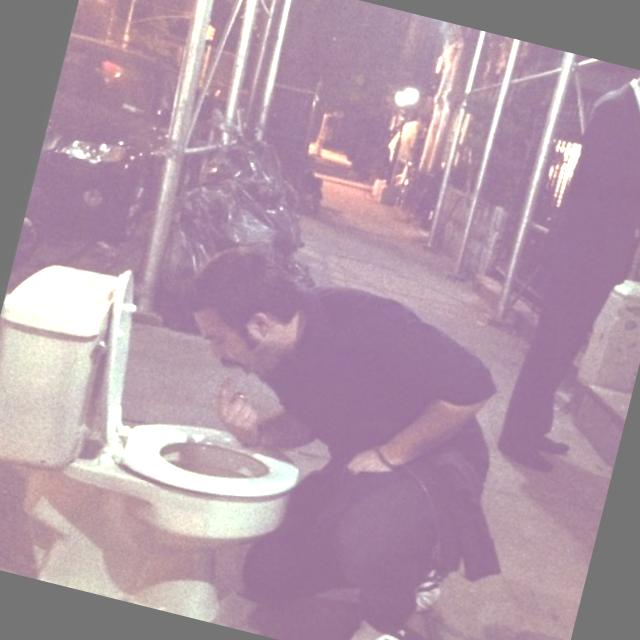Vehicle: (22, 30, 192, 246)
